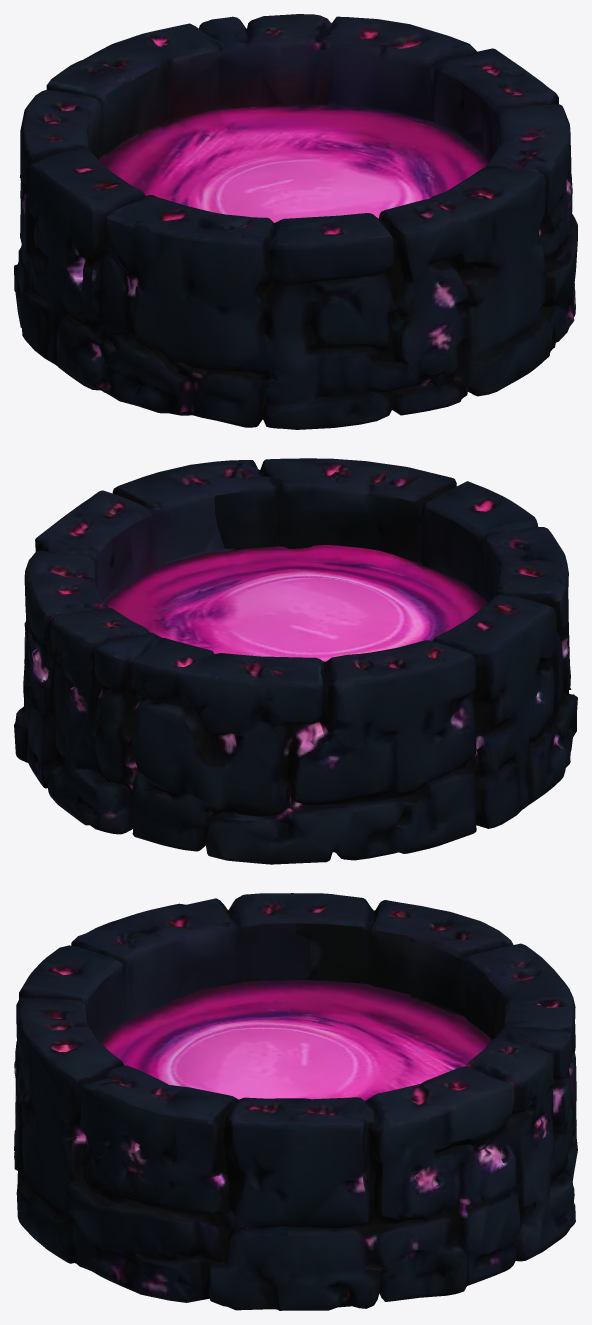
Rendered from well-of-urd-pool-generated-2026-05-17T17-58-13-081Z.low.glb.
3 renders of one model, top to bottom at view 1: azimuth 30°, elevation 25°; view 2: azimuth 150°, elevation 25°; view 3: azimuth 270°, elevation 25°, orthographic. The views are drawn at different scales.
Parts seen in each view (by area): view 1: temp_mesh.ply; view 2: temp_mesh.ply; view 3: temp_mesh.ply.
Boxes of the visible parts, bbox=[...] form: temp_mesh.ply: bbox=[14, 14, 577, 429]; temp_mesh.ply: bbox=[14, 458, 577, 864]; temp_mesh.ply: bbox=[14, 893, 577, 1310].
Bounding box in the file's own units: 1.97 × 0.7301 × 1.97.
1 material, 1 textured.
